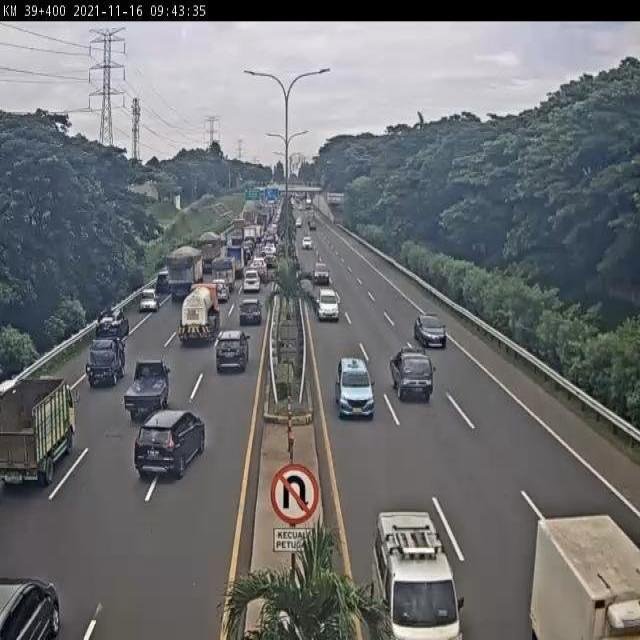Car: (136, 408, 206, 483), (336, 356, 374, 420), (214, 329, 250, 375), (412, 314, 449, 351), (96, 303, 128, 342), (314, 287, 342, 325), (238, 298, 262, 326), (139, 287, 159, 316), (243, 270, 261, 294), (251, 256, 267, 280), (314, 262, 329, 284), (262, 245, 276, 261), (302, 237, 314, 251), (308, 217, 317, 230)
Truck: (528, 513, 640, 640), (369, 512, 465, 640), (0, 372, 78, 492), (178, 281, 220, 352), (389, 348, 437, 406), (129, 358, 172, 421), (86, 336, 125, 391), (169, 245, 202, 297), (195, 230, 221, 270), (212, 256, 236, 299), (222, 245, 244, 281)
